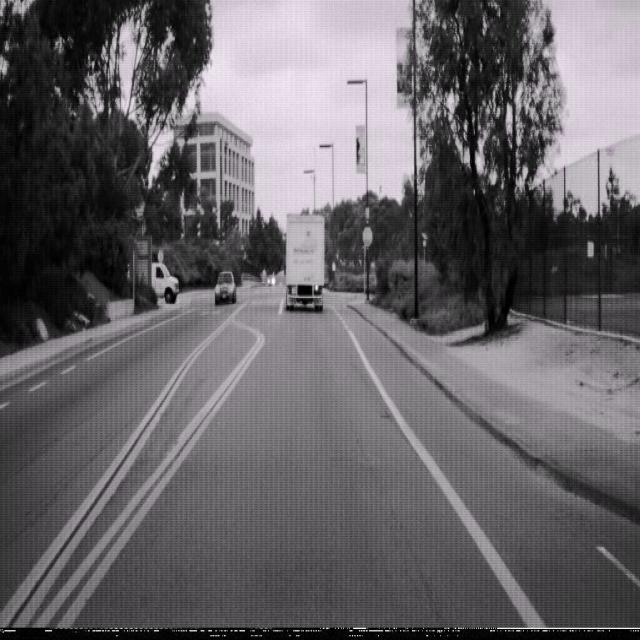stop: (362, 225, 372, 248)
